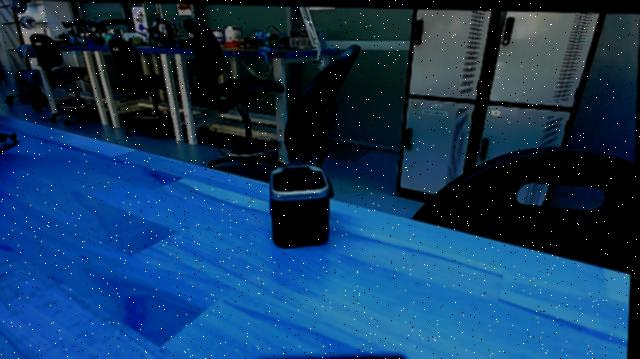adapter: (267, 158, 338, 248)
